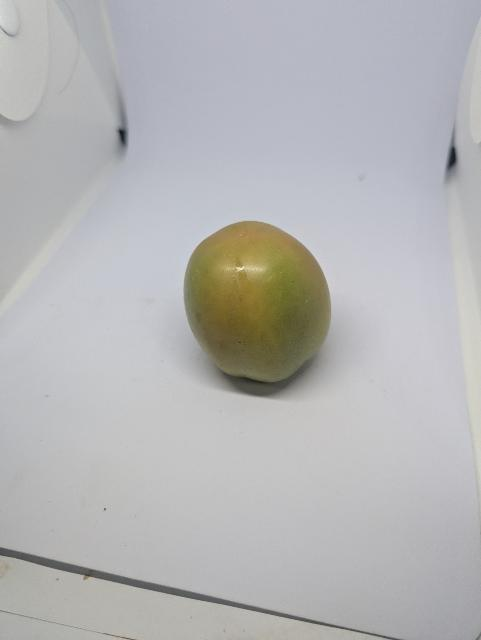breaker: (184, 221, 331, 383)
